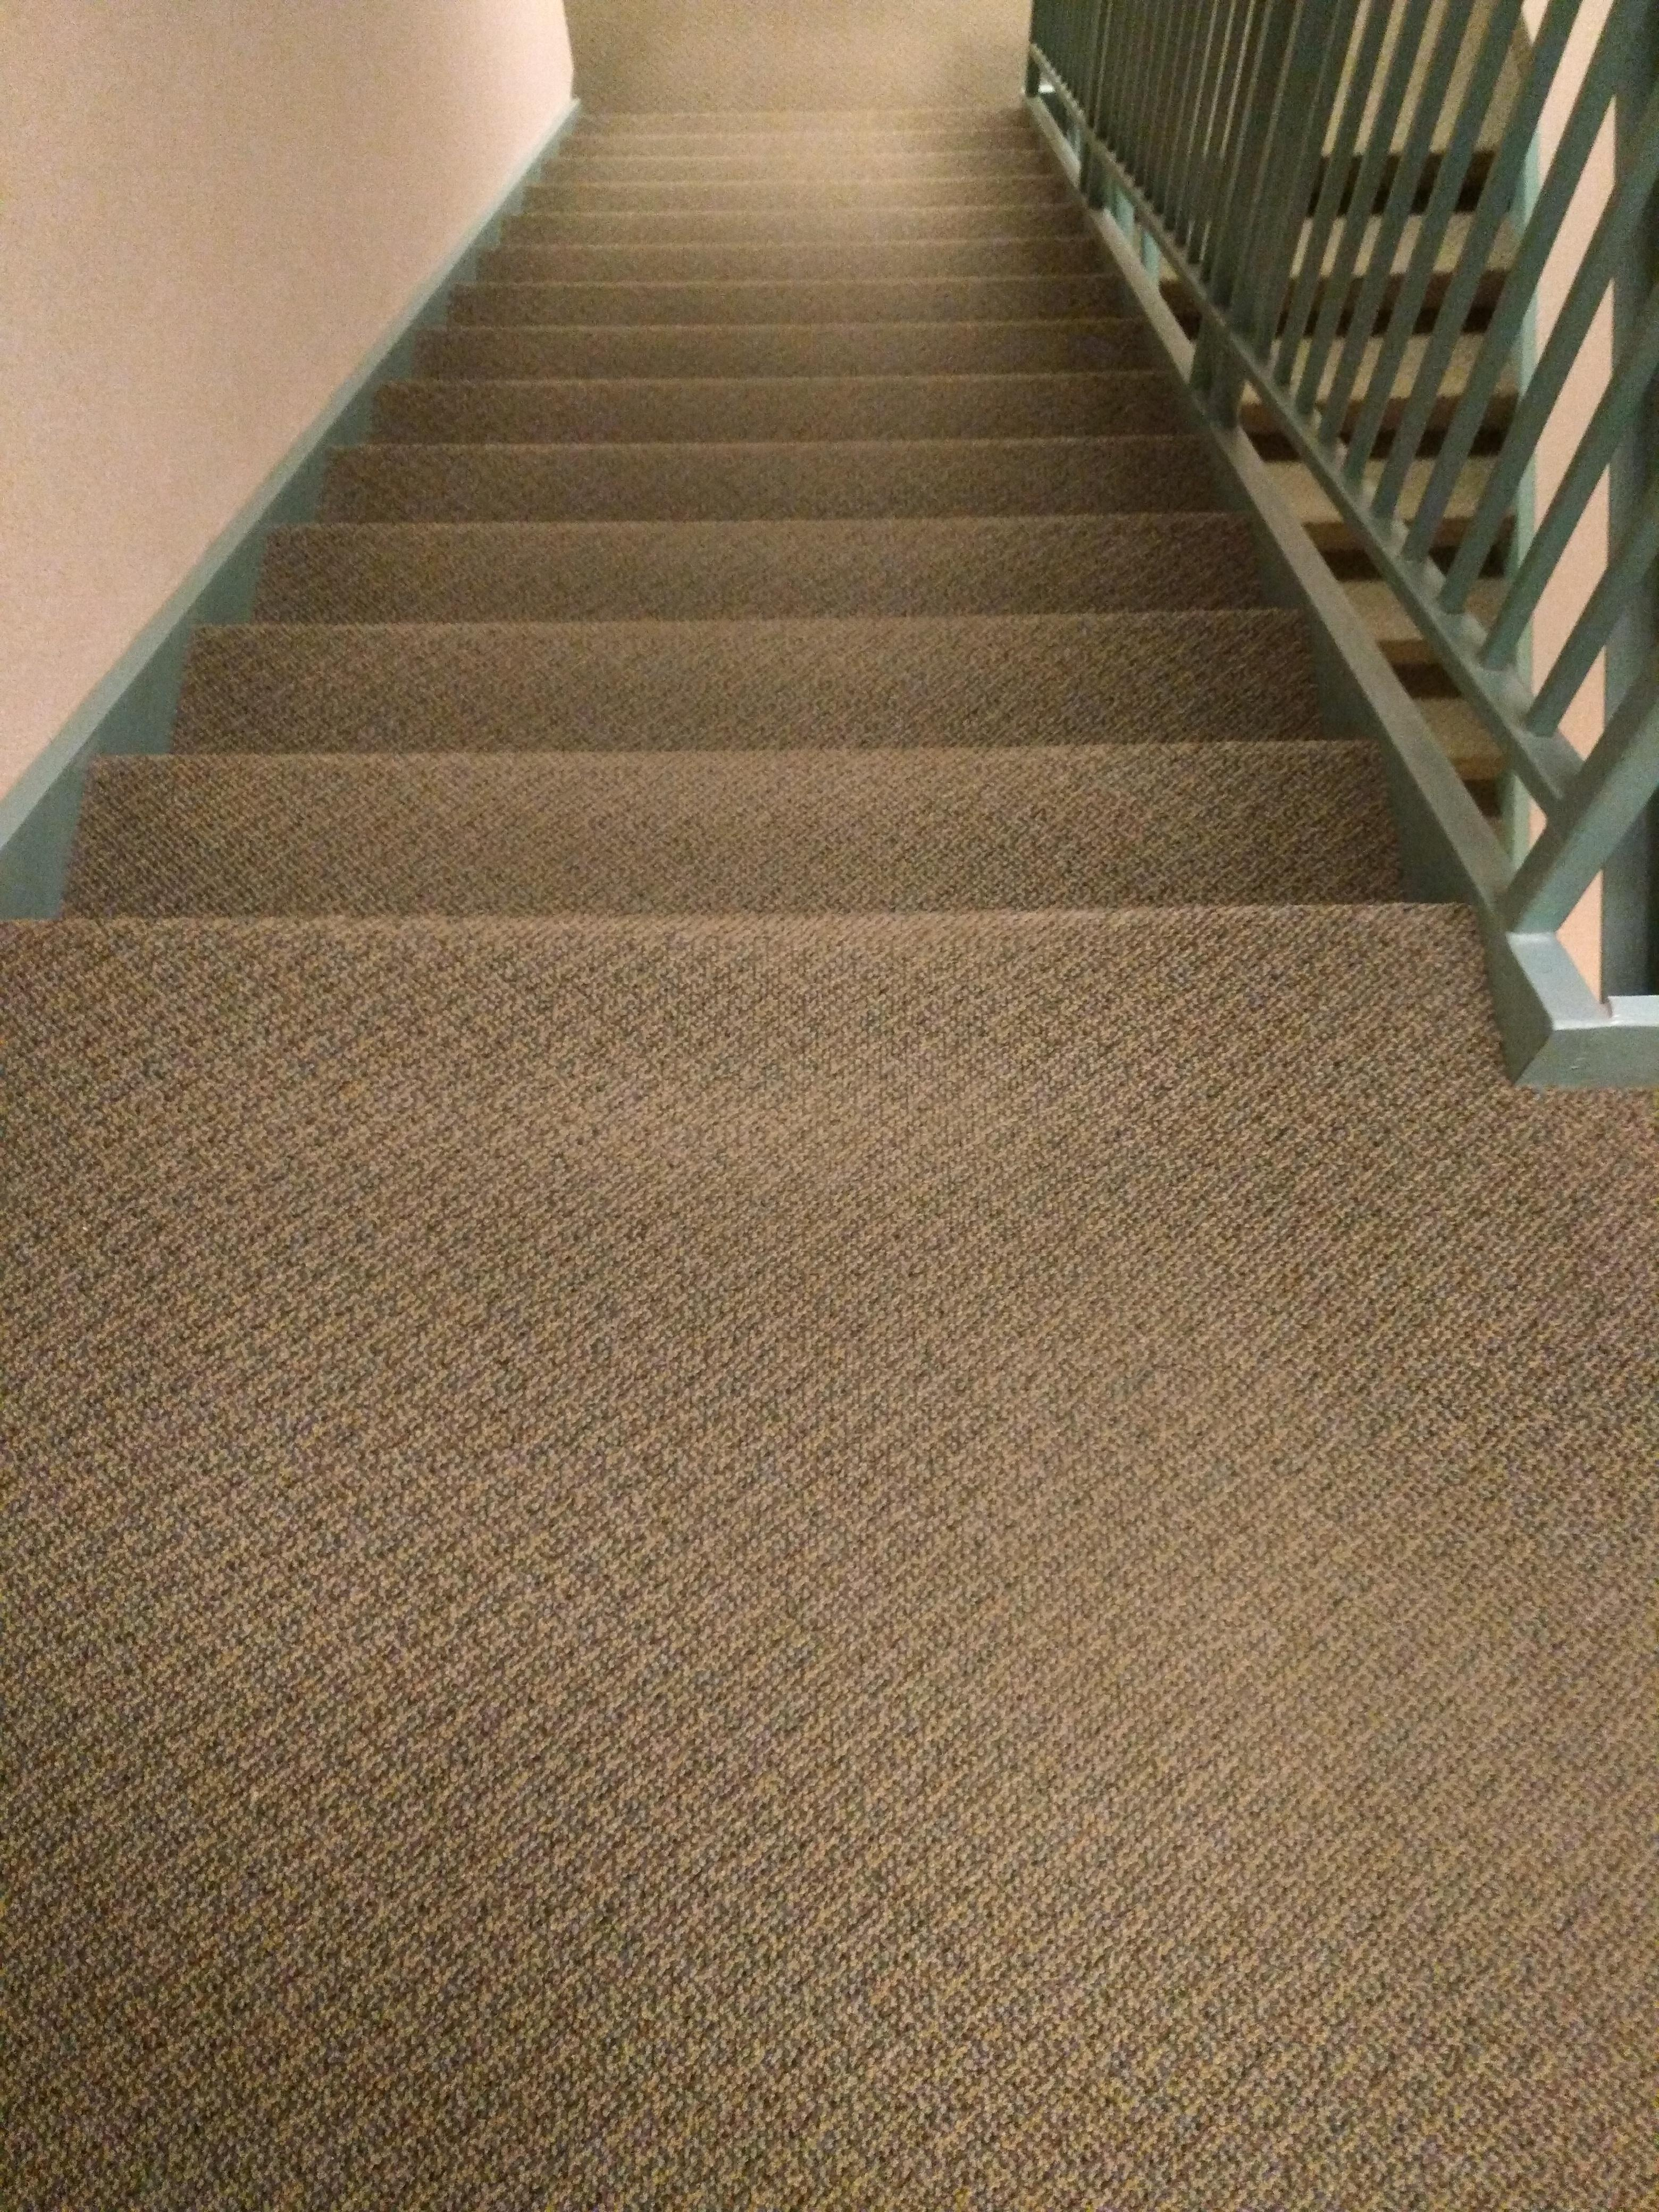stairs_down: (35, 99, 1502, 1057)
